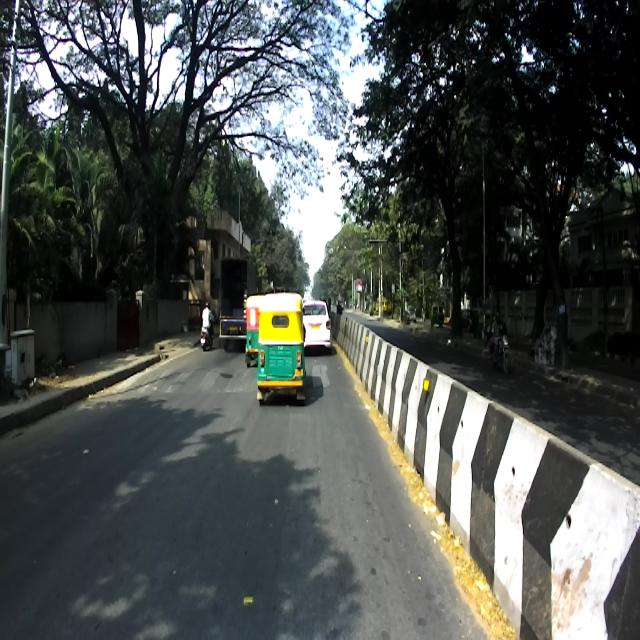auto ahead at: (256, 298, 306, 402)
